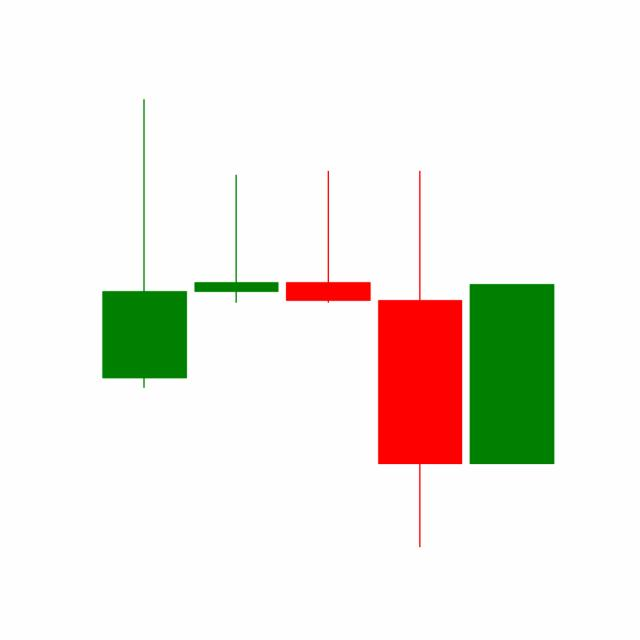Marubozu: (464, 282, 558, 466)
